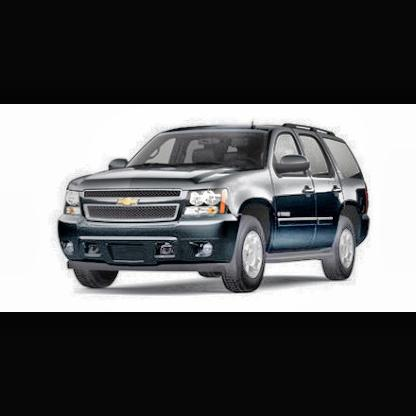Chevrolet Tahoe Hybrid SUV 2012: (59, 121, 372, 298)
